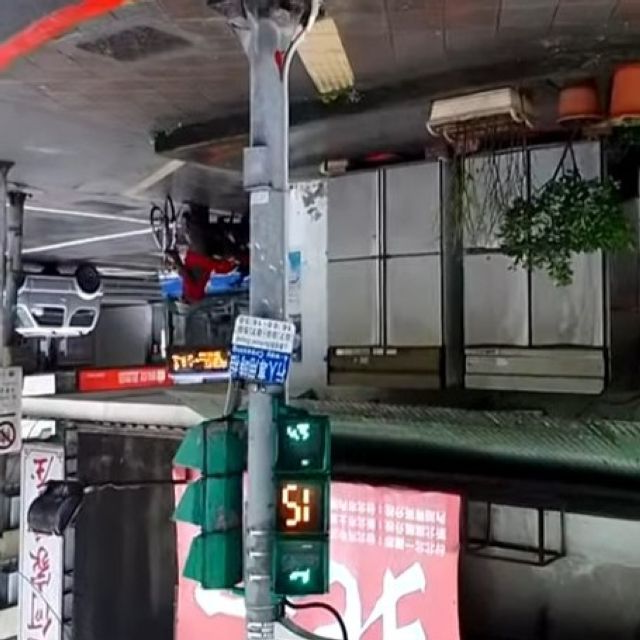green_light: (272, 419, 332, 597)
